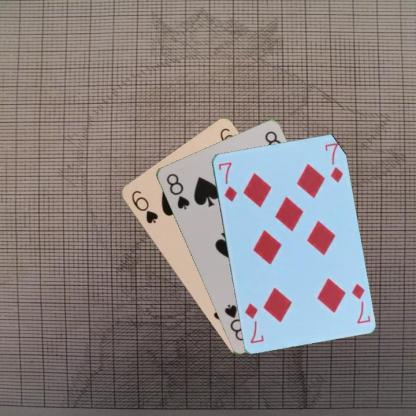6s: (128, 187, 159, 225)
7d: (348, 280, 371, 325), (216, 159, 238, 203)
8s: (163, 170, 191, 211)
